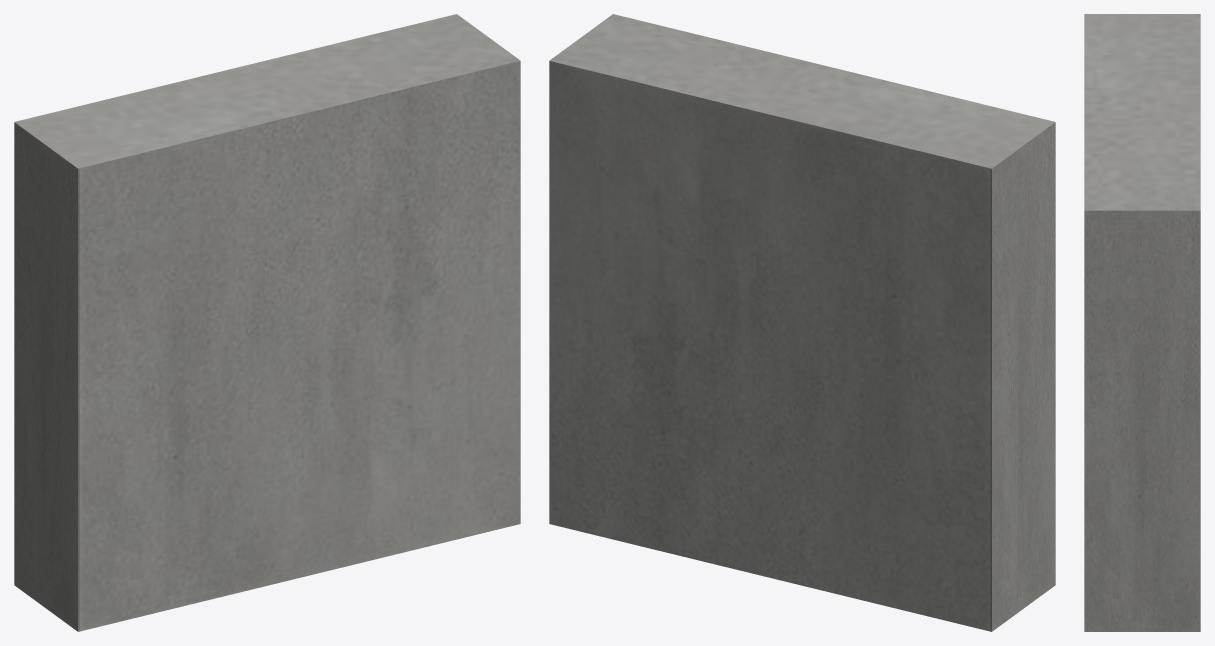
Rendered from WRSPWall.fbx.
The picture shows the model from 3 angles, left to right: view 1: azimuth 30°, elevation 25°; view 2: azimuth 150°, elevation 25°; view 3: azimuth 270°, elevation 25°; orthographic projection. The views are drawn at different scales.
Visible parts, largest first — view 1: WRSWall; view 2: WRSWall; view 3: WRSWall.
Boxes of the visible parts, x1,y1,x2,y2 form: WRSWall: (14, 14, 520, 631); WRSWall: (549, 14, 1055, 631); WRSWall: (1084, 14, 1200, 631).
Bounding box in the file's own units: 400 × 400 × 100.
